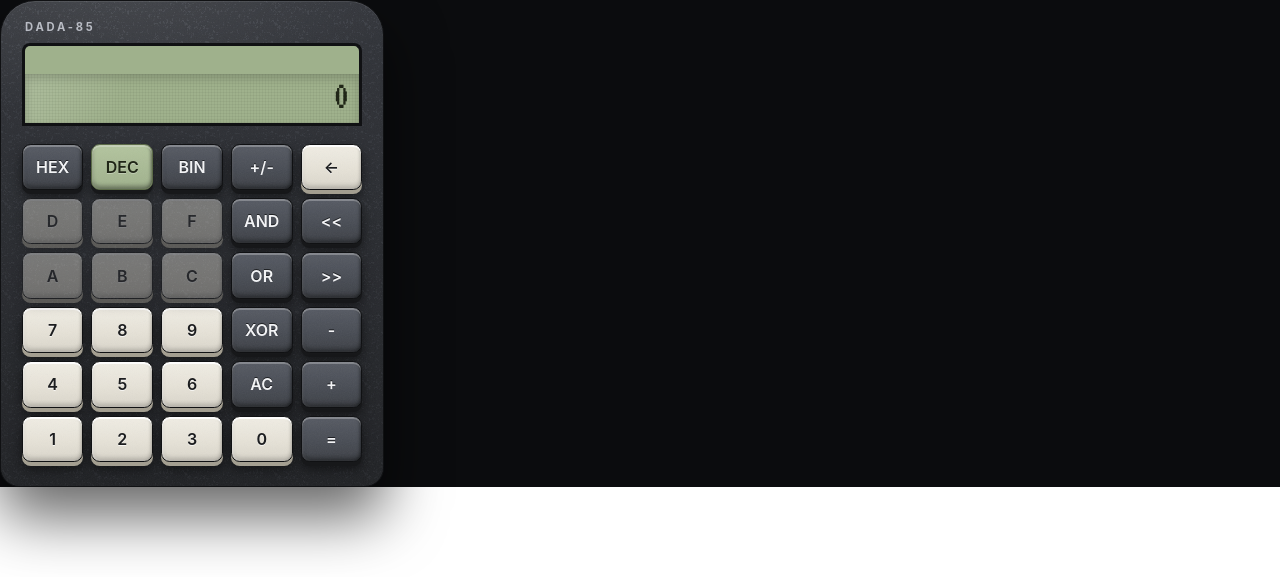
Test case: ProgrammerCalculator › base-dependent keys › disables A-F in decimal mode but not in hex
Expected: the button "A" is disabled, [22,252,84,299]
Click the button "HEX": coordinates (53, 167) [22,144,84,190]
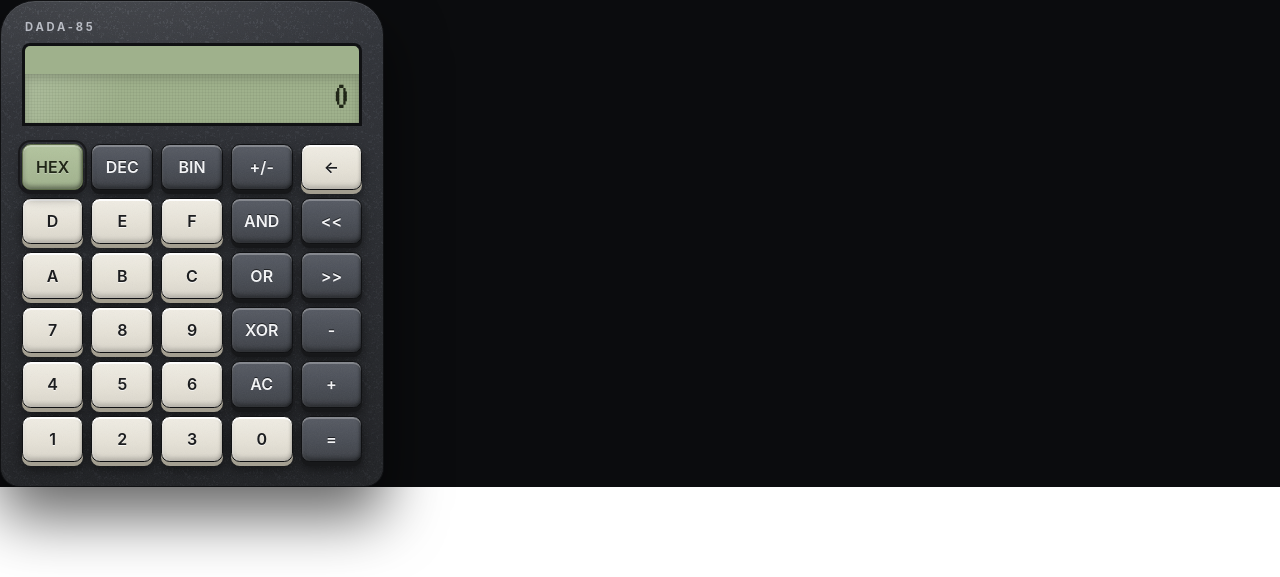
Result: the button "A" is enabled at [22,252,84,299]
